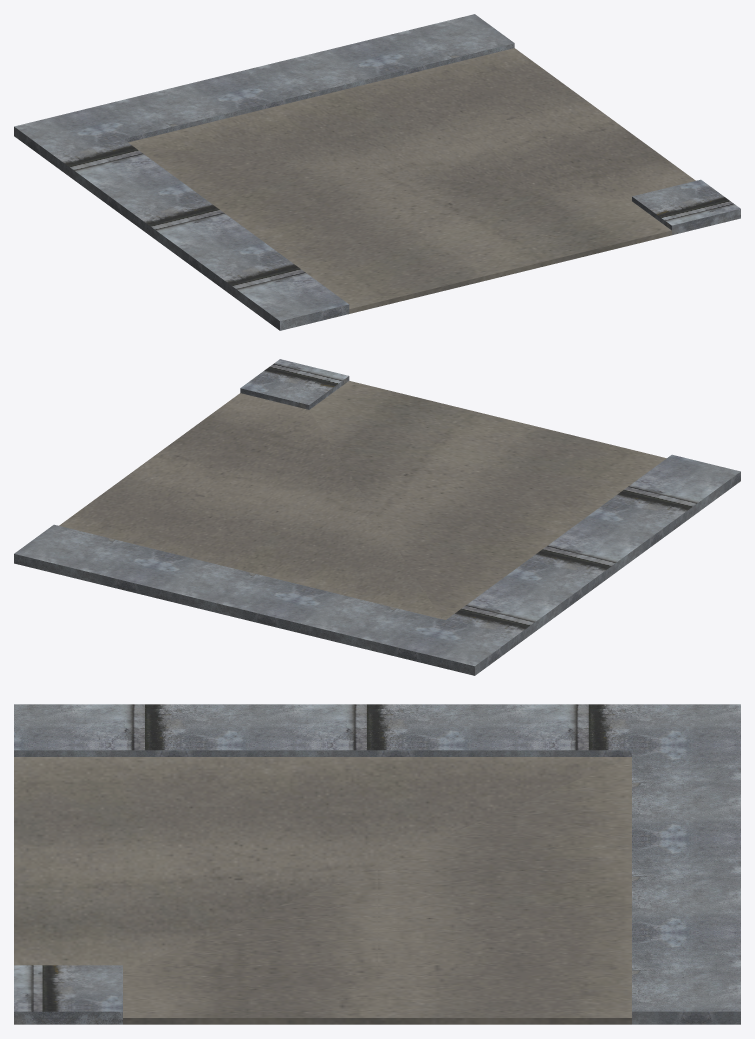
The model's file is Urban_Road3Corner_Model.fbx.
The picture shows the model from 3 angles, top to bottom: view 1: azimuth 30°, elevation 25°; view 2: azimuth 150°, elevation 25°; view 3: azimuth 270°, elevation 25°; orthographic projection. The views are drawn at different scales.
Visible parts, largest first — view 1: Urban_Road3Corner_Mesh; view 2: Urban_Road3Corner_Mesh; view 3: Urban_Road3Corner_Mesh.
Boxes of the visible parts, x1=… form: Urban_Road3Corner_Mesh: x1=14, y1=14, x2=740, y2=330; Urban_Road3Corner_Mesh: x1=14, y1=359, x2=740, y2=675; Urban_Road3Corner_Mesh: x1=14, y1=704, x2=740, y2=1024.
Bounding box in the file's own units: 16 × 0.32 × 16.
